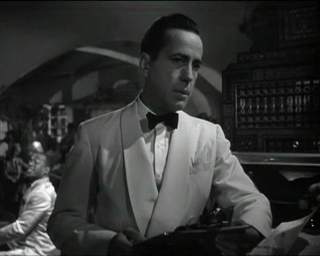face: (161, 50, 202, 106), (25, 154, 42, 177)
ms: (1, 1, 320, 256)
person: (46, 13, 272, 256), (1, 151, 61, 256)
